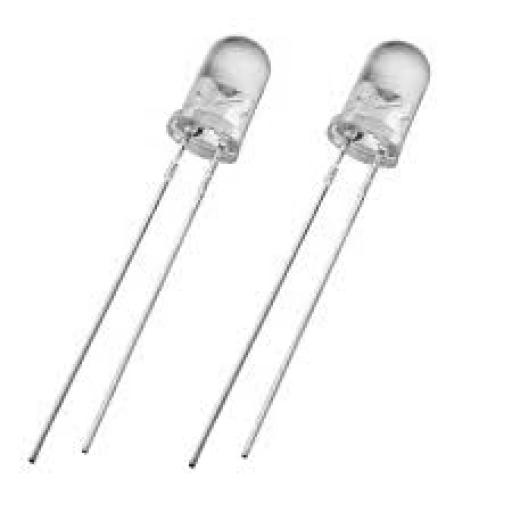LED: (21, 21, 281, 476), (278, 31, 475, 385)
